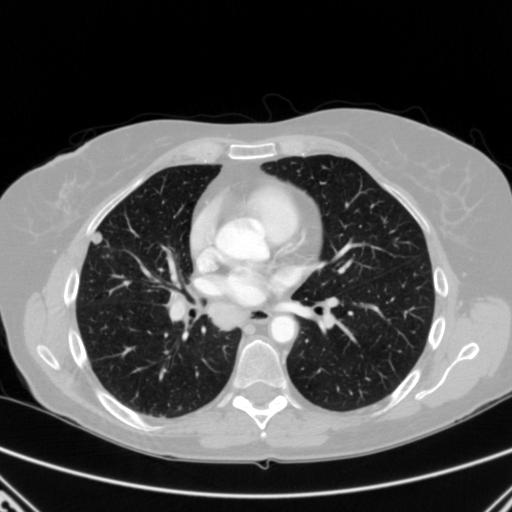nodule: (89, 230, 106, 247)
